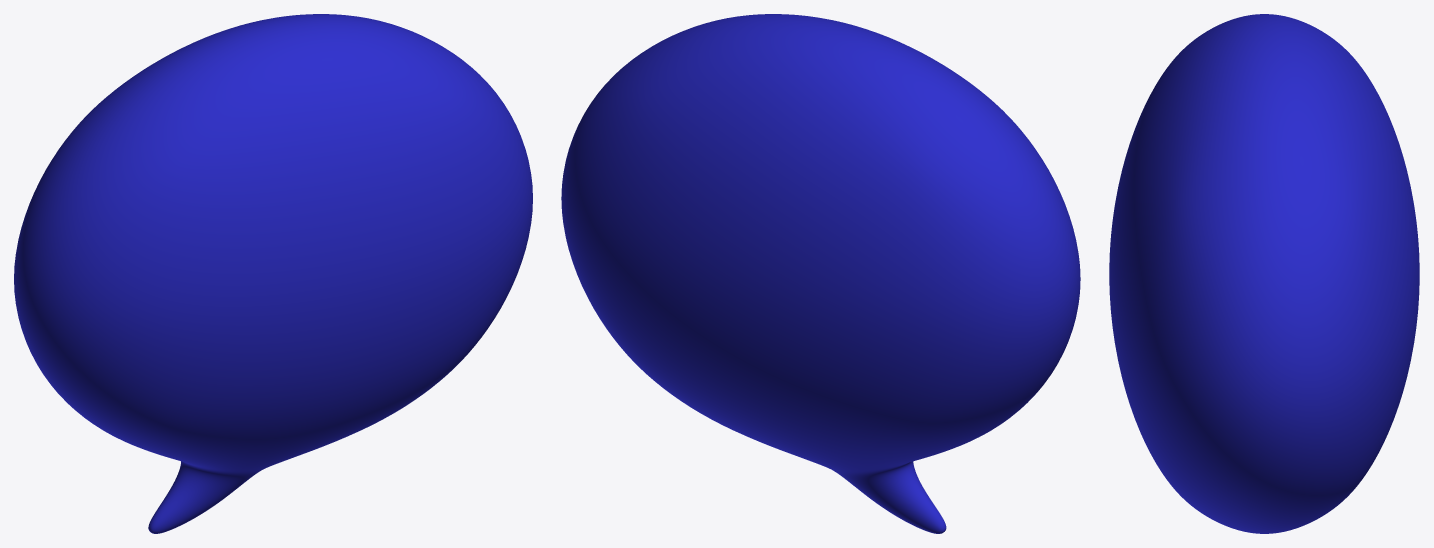
The model's file is chat.fbx.
3 renders of one model, left to right at view 1: azimuth 30°, elevation 25°; view 2: azimuth 150°, elevation 25°; view 3: azimuth 270°, elevation 25°, orthographic. The views are drawn at different scales.
Parts seen in each view (by area): view 1: Chat-Only; view 2: Chat-Only; view 3: Chat-Only.
Part boxes in pixels (x1=…): Chat-Only: x1=14, y1=14, x2=532, y2=533; Chat-Only: x1=561, y1=14, x2=1080, y2=533; Chat-Only: x1=1109, y1=14, x2=1419, y2=533.
Size of the model in its own units: 189 by 174 by 95.42.
